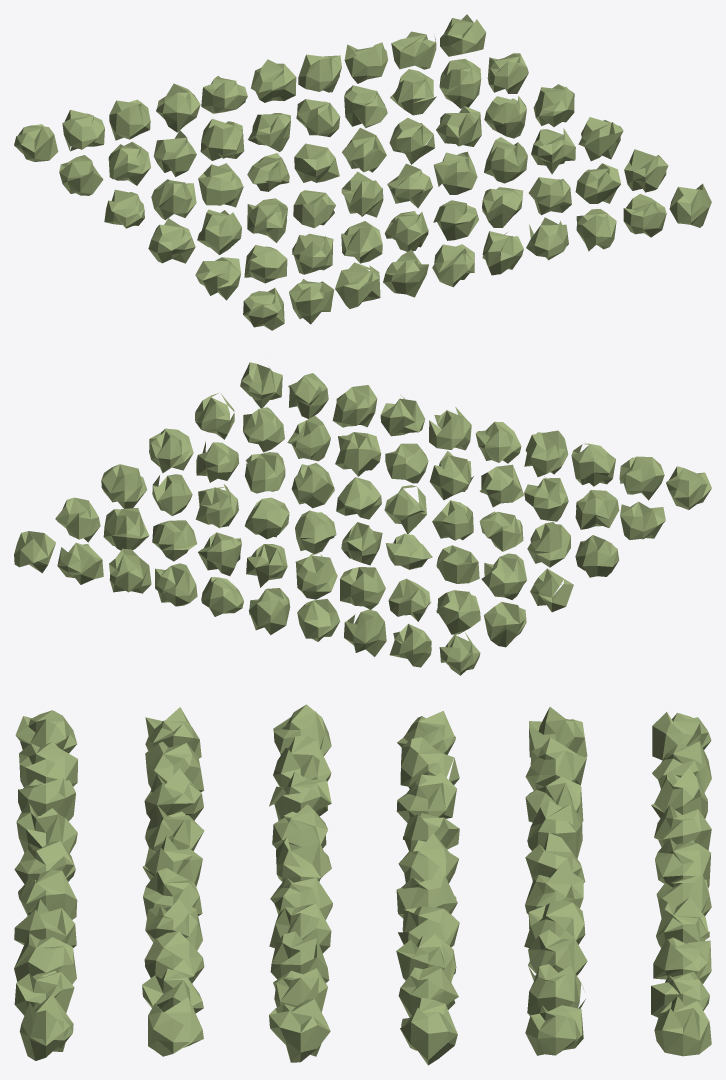
3 views of the same model, one above another, from view 1: azimuth 30°, elevation 25°; view 2: azimuth 150°, elevation 25°; view 3: azimuth 270°, elevation 25° (orthographic). The views are drawn at different scales.
Size of the model in its own units: 7.69 by 0.644 by 7.12.
